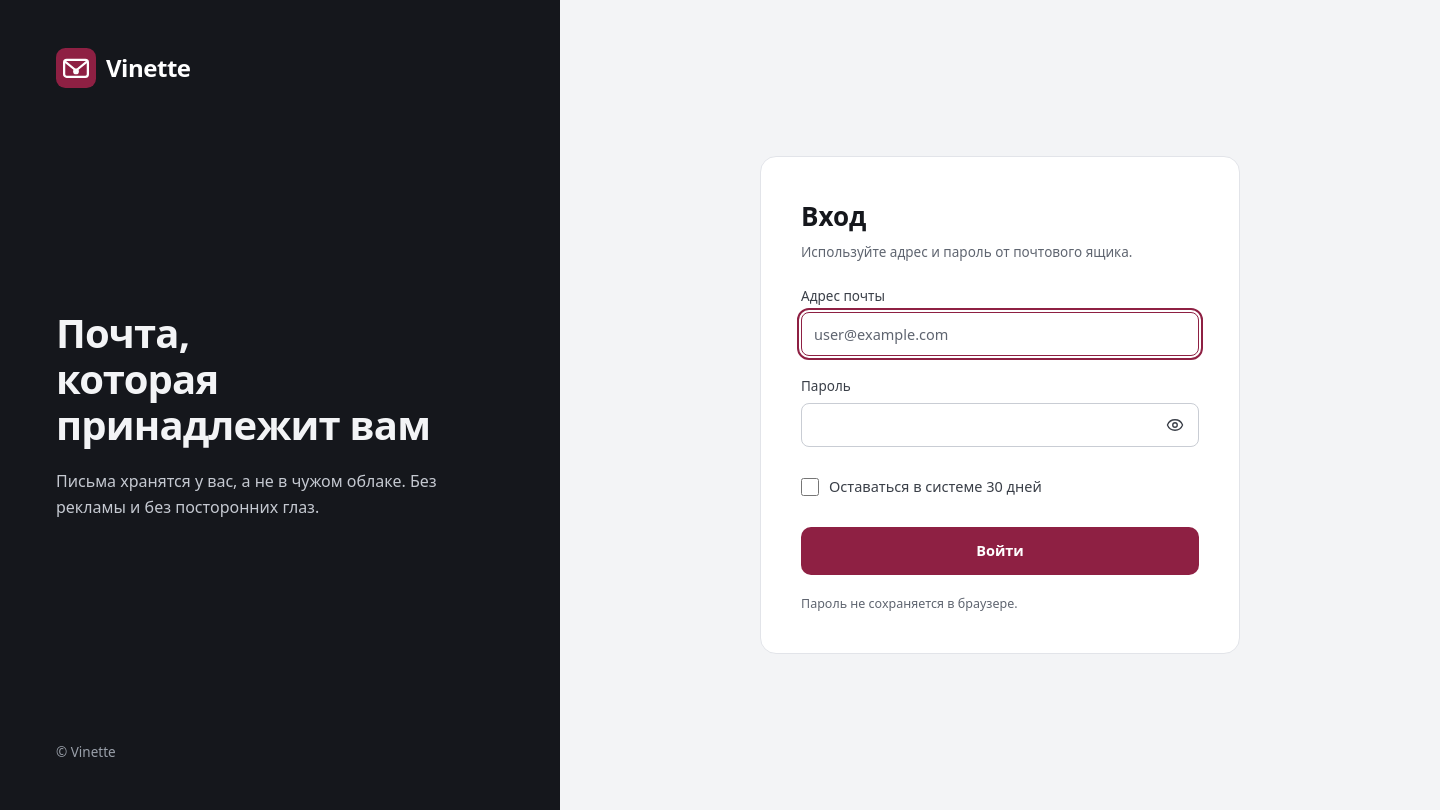
login screen › says so in plain words when the address or password is wrong and stays on the screen
This screenshot has width=1440, height=810.
In the field labelled "Адрес почты": (1000, 334) [801, 312, 1199, 356], type "alice@vinette.test"
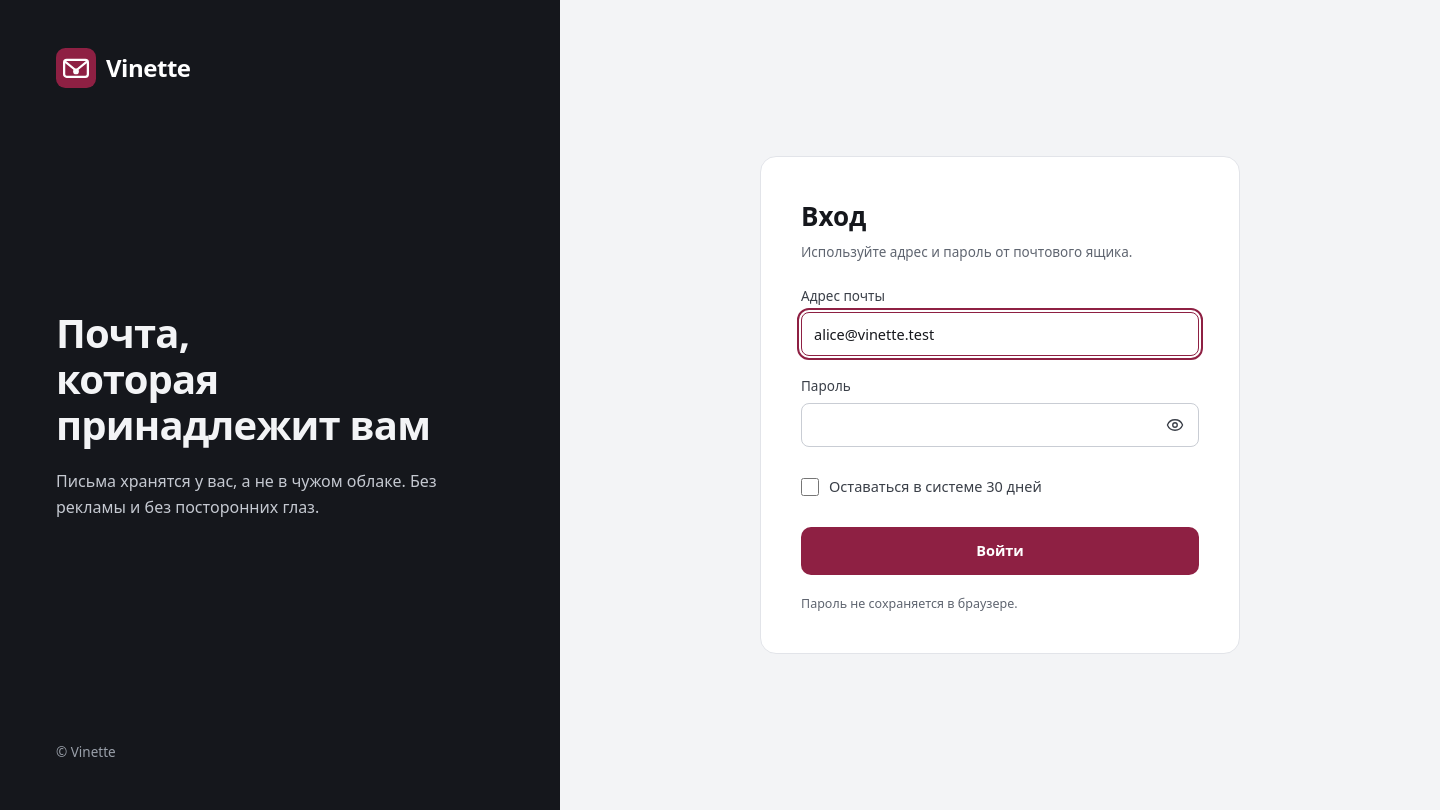
In the password field labelled "Пароль": (1000, 424) [801, 402, 1199, 446], type "wrong"
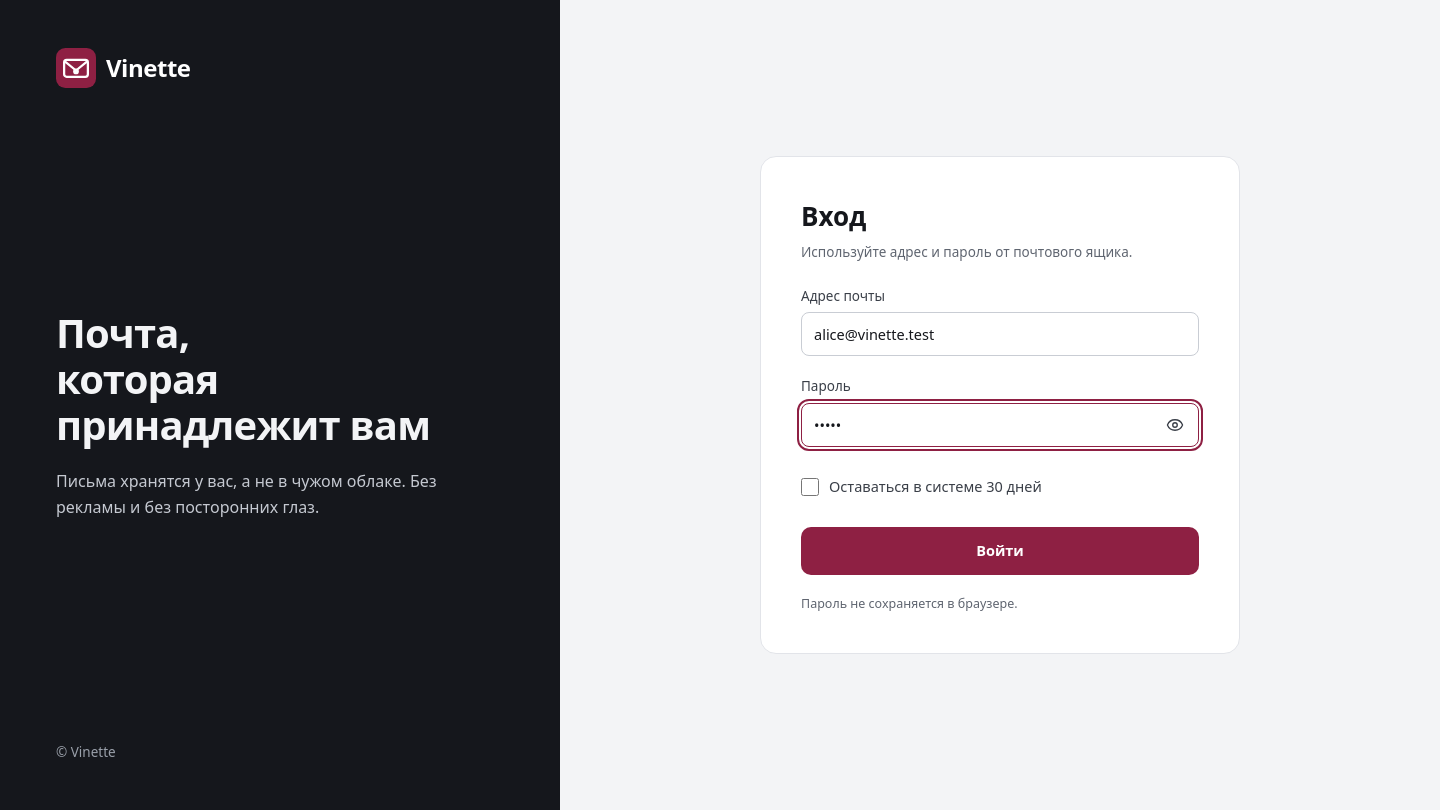
Click the button "Войти": (1000, 550) [801, 526, 1199, 574]
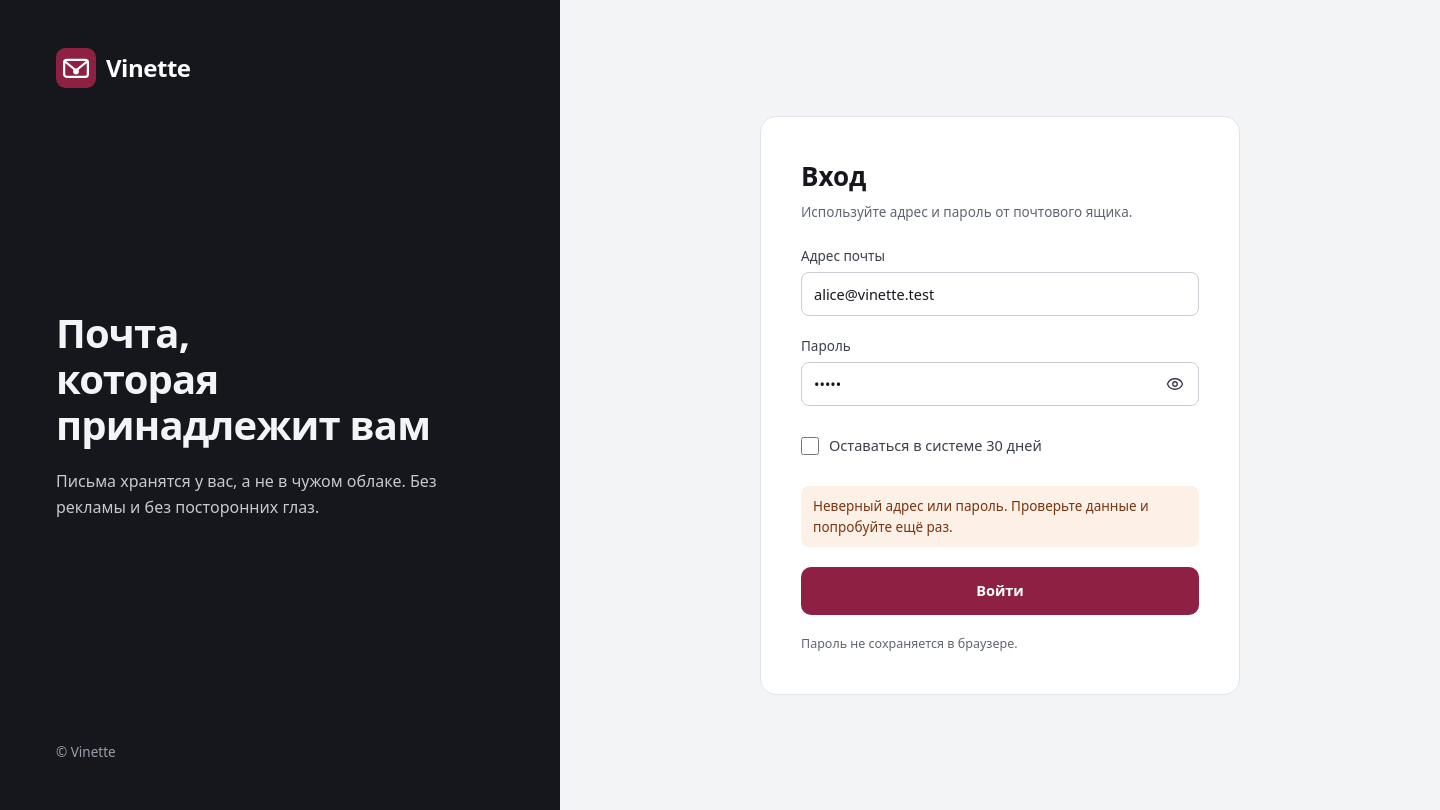
Expected: the button "Войти" is enabled, [801, 567, 1199, 615]
Now the message shows "Неверный адрес или пароль.", box [813, 497, 1149, 536]
